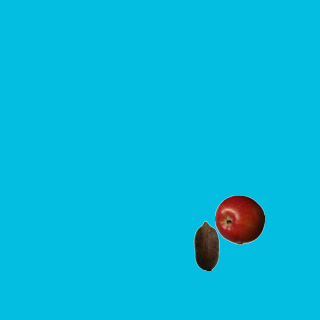Apple Braeburn: (214, 194, 264, 244)
Nut Pecan: (181, 220, 231, 270)
